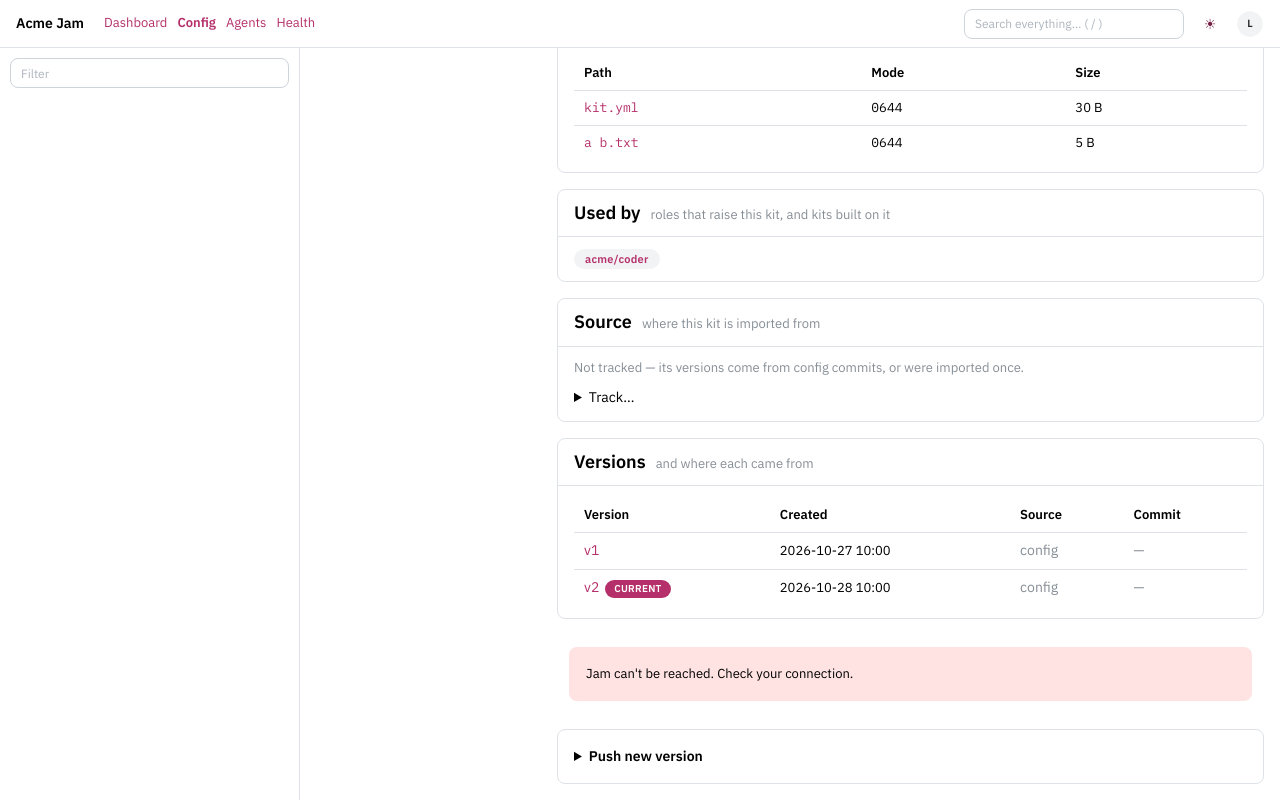
Test case: a kit's page › pushes a new version
The image size is (1280, 800).
(page scrolled)
What coordinates should you click on to do the following:
click the heading "Push new version"
I would click on:
 (646, 756)
Its box is [589,747,703,765].
(page scrolled)
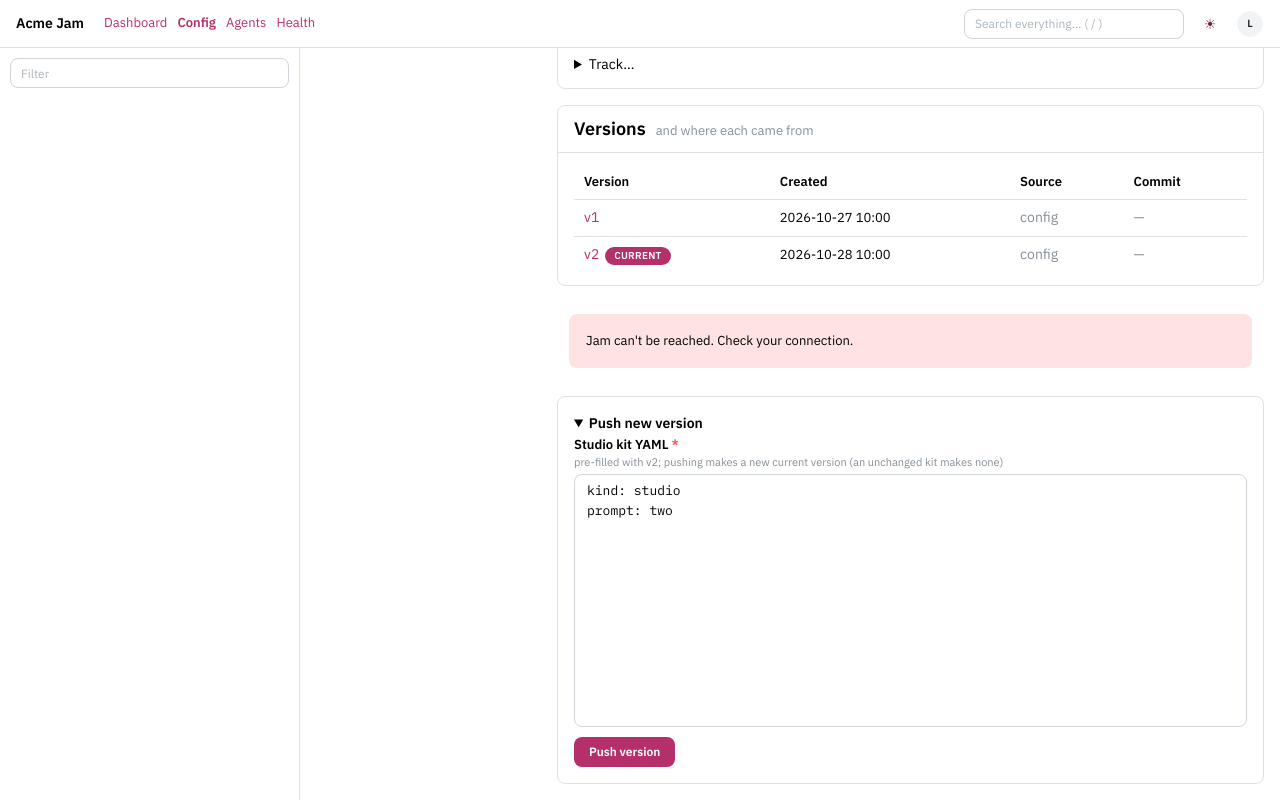
What coordinates should you click on to do the following:
click the button "Push version"
I would click on:
 (625, 752)
Its box is [574,737,675,767].
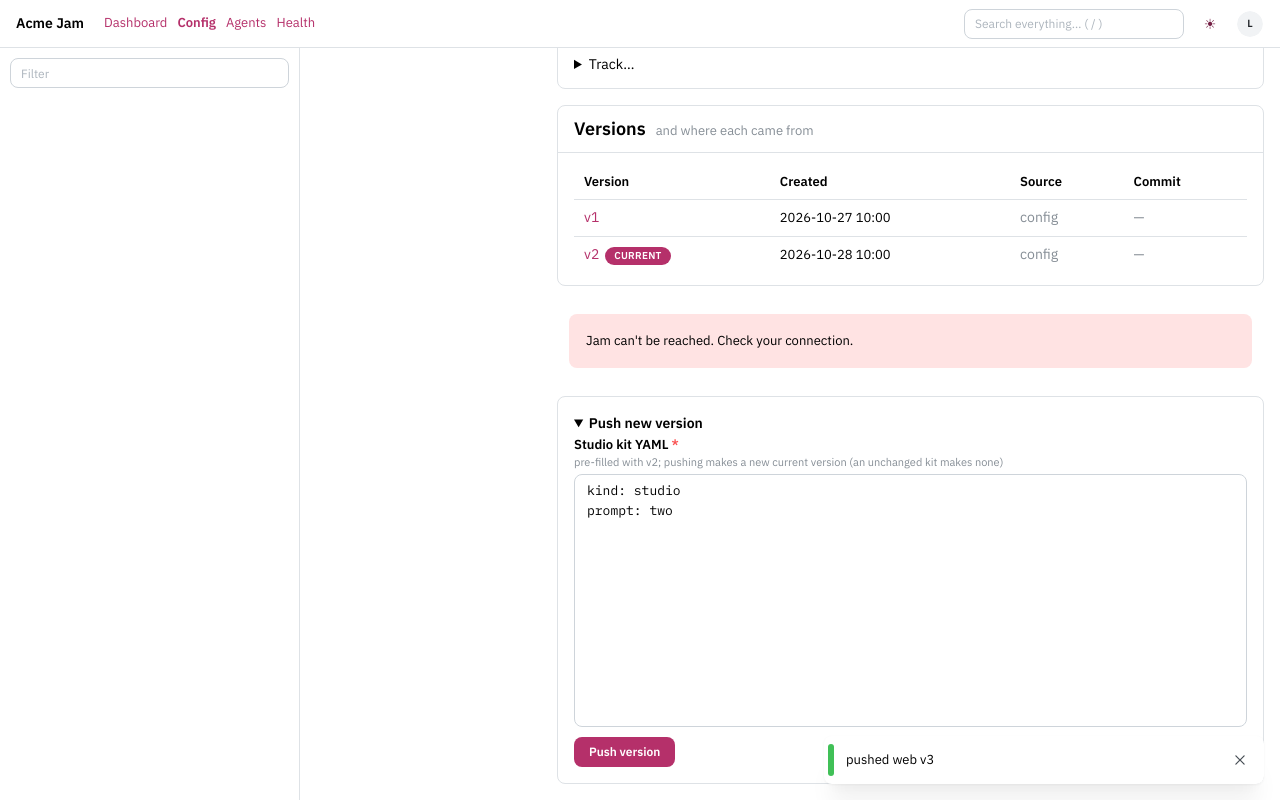
Expected: the text "pushed web v3" is shown, [846,751,934,768]
